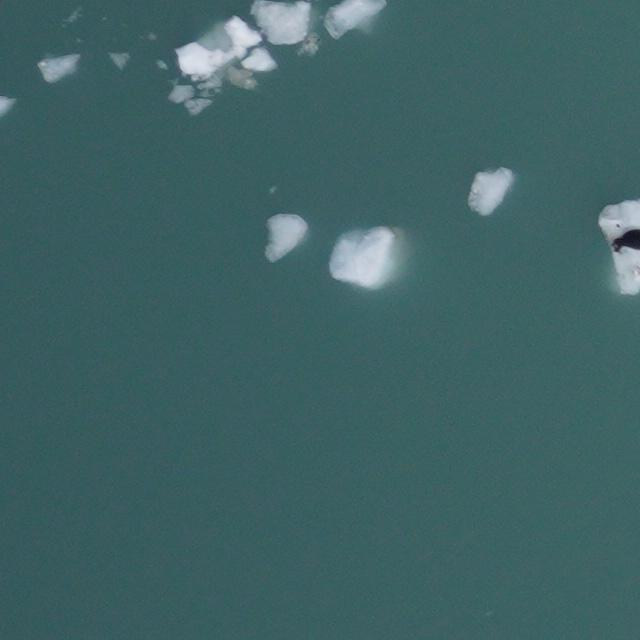seal: (611, 229, 640, 252)
